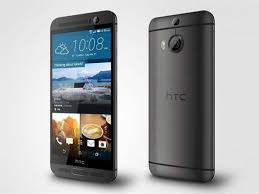htc: (45, 9, 120, 185), (144, 5, 219, 181)
